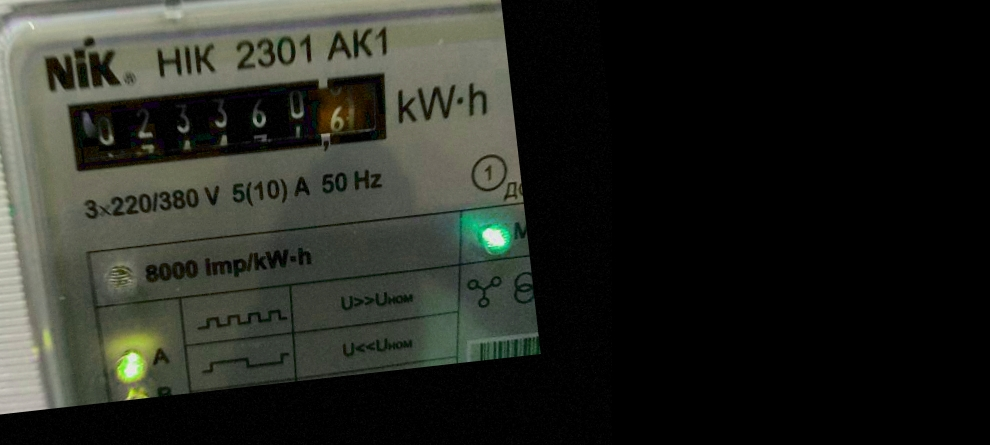0: (91, 110, 117, 147), (282, 85, 308, 122)
2: (131, 104, 155, 141)
3: (169, 100, 193, 137), (208, 94, 230, 130)
6: (245, 93, 269, 129), (324, 100, 346, 134)
screen: (52, 55, 412, 192)
